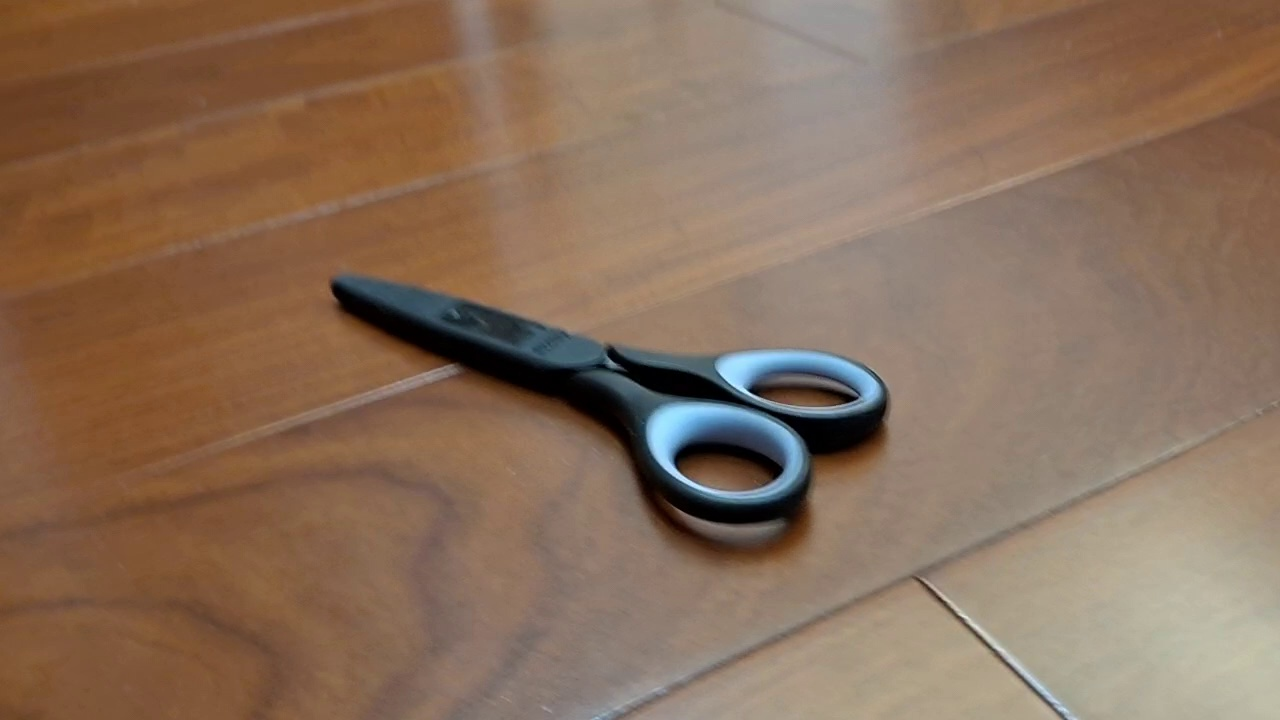scissors: (329, 272, 891, 527)
